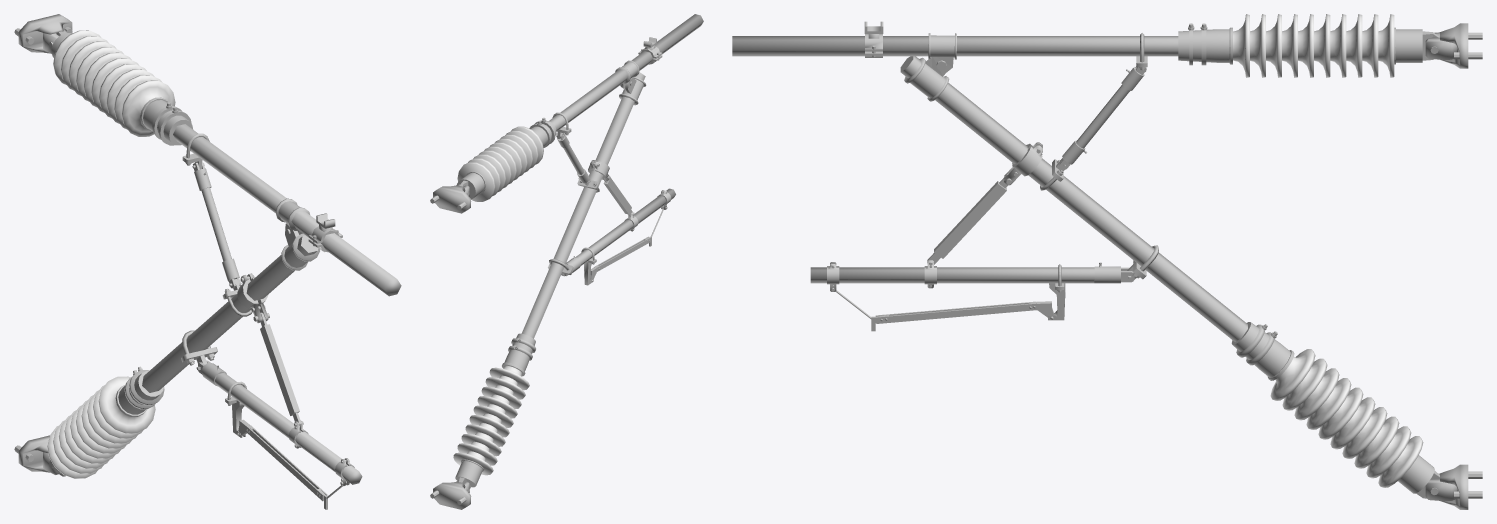
Rendered from short_single_positive.obj.
3 renders of one model, left to right at view 1: azimuth 30°, elevation 25°; view 2: azimuth 150°, elevation 25°; view 3: azimuth 270°, elevation 25°, orthographic. The views are drawn at different scales.
Visible parts, largest first — view 1: 贝塞尔曲线.037, 贝塞尔曲线.036, 贝塞尔曲线.035, 柱体.360, 柱体.381, 立方体.128, 立方体.039, 柱体.388, 立方体.133, 柱体.353, 立方体.127, 贝塞尔曲线.034 (+19 smaller); view 2: 贝塞尔曲线.036, 贝塞尔曲线.037, 贝塞尔曲线.035, 立方体.127, 立方体.128, 柱体.370, 柱体.353, 柱体.361, 柱体.362, 柱体.360, 柱体.380, 柱体.356 (+18 smaller); view 3: 贝塞尔曲线.036, 贝塞尔曲线.037, 贝塞尔曲线.035, 柱体.388, 柱体.353, 立方体.133, 立方体.039, 柱体.360, 柱体.380, 柱体.354, 柱体.358, 柱体.355 (+8 smaller).
Part boxes in pixels (box(x1,y1,x2,y2)): 贝塞尔曲线.037: box(173, 124, 401, 296); 贝塞尔曲线.036: box(142, 235, 318, 392); 贝塞尔曲线.035: box(214, 372, 362, 484); 柱体.360: box(98, 376, 155, 433); 柱体.381: box(121, 80, 175, 136); 立方体.128: box(18, 14, 72, 53); 立方体.039: box(260, 324, 299, 415); 柱体.388: box(140, 97, 193, 145); 立方体.133: box(246, 425, 327, 501); 柱体.353: box(115, 371, 163, 416); 立方体.127: box(18, 435, 49, 472); 贝塞尔曲线.034: box(201, 187, 231, 261); 贝塞尔曲线.036: box(521, 72, 645, 338); 贝塞尔曲线.037: box(549, 14, 703, 131); 贝塞尔曲线.035: box(575, 188, 675, 265); 立方体.127: box(433, 481, 470, 509); 立方体.128: box(433, 185, 470, 213); 柱体.370: box(457, 162, 495, 201); 柱体.353: box(502, 333, 535, 376); 柱体.361: box(455, 459, 484, 487); 柱体.362: box(461, 432, 501, 456); 柱体.360: box(489, 366, 529, 390); 柱体.380: box(457, 171, 486, 199); 柱体.356: box(477, 394, 517, 418); 贝塞尔曲线.036: box(900, 56, 1247, 341); 贝塞尔曲线.037: box(732, 36, 1178, 56); 贝塞尔曲线.035: box(810, 267, 1094, 283); 柱体.388: box(1178, 27, 1232, 64); 柱体.353: box(1231, 322, 1294, 380); 立方体.133: box(875, 301, 1037, 323); 立方体.039: box(934, 181, 1006, 258); 柱体.360: box(1270, 349, 1315, 400); 柱体.380: box(1394, 27, 1422, 64); 柱体.354: box(1282, 358, 1327, 410); 柱体.358: box(1330, 397, 1375, 449); 柱体.355: box(1294, 368, 1339, 420).
Bounding box in the file's own units: 0.24 × 2 × 2.81.
